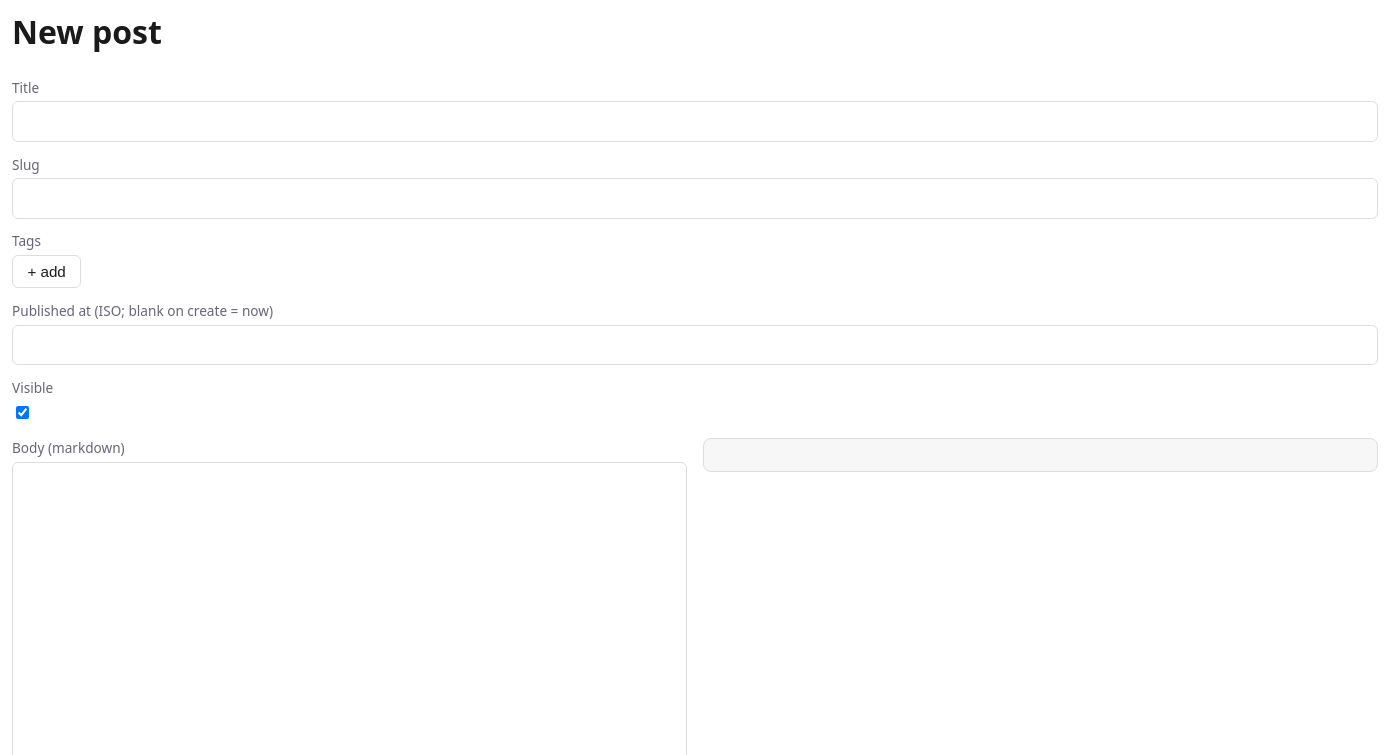
Test: post editor › surfaces a 409 duplicate slug on create
The image size is (1390, 755).
Type "T" into the field labelled "Title". click: (695, 122)
box: [12,102,1378,142]
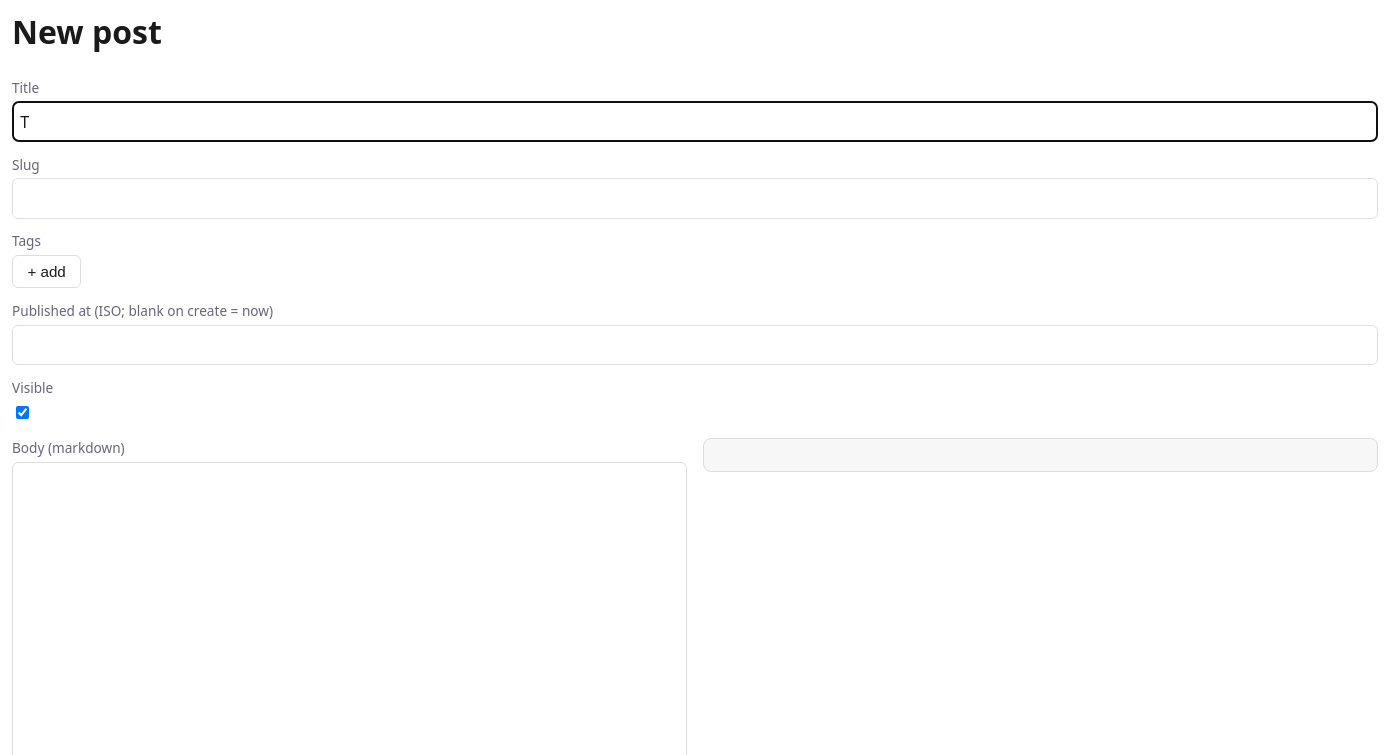
Type "dupe" into the field labelled "Slug". click: (695, 198)
box: [12,178,1378,219]
(page scrolled)
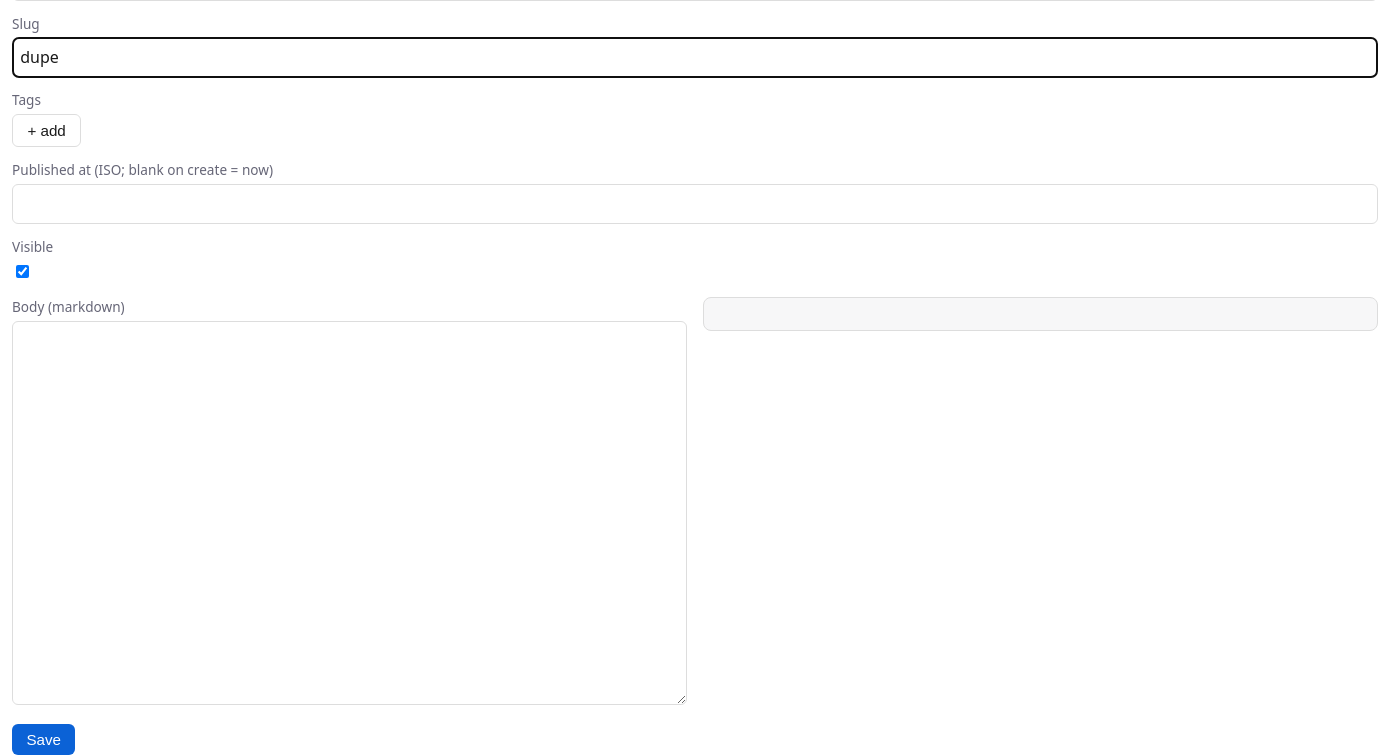
Type "b" into the text box labelled "Body (markdown)". click: (350, 513)
box: [12,321,687,705]
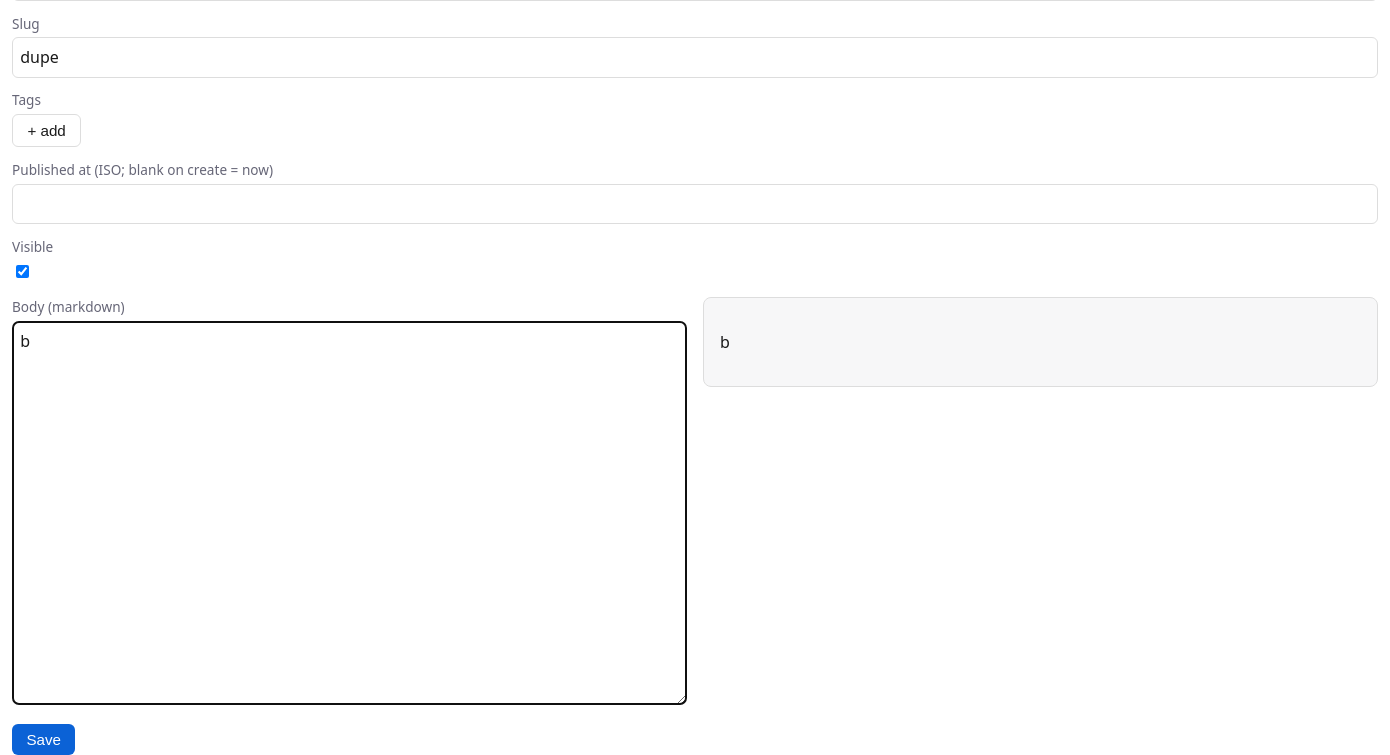
Click the button "Save". click: (44, 739)
box: [12,724,75,754]
(page scrolled)
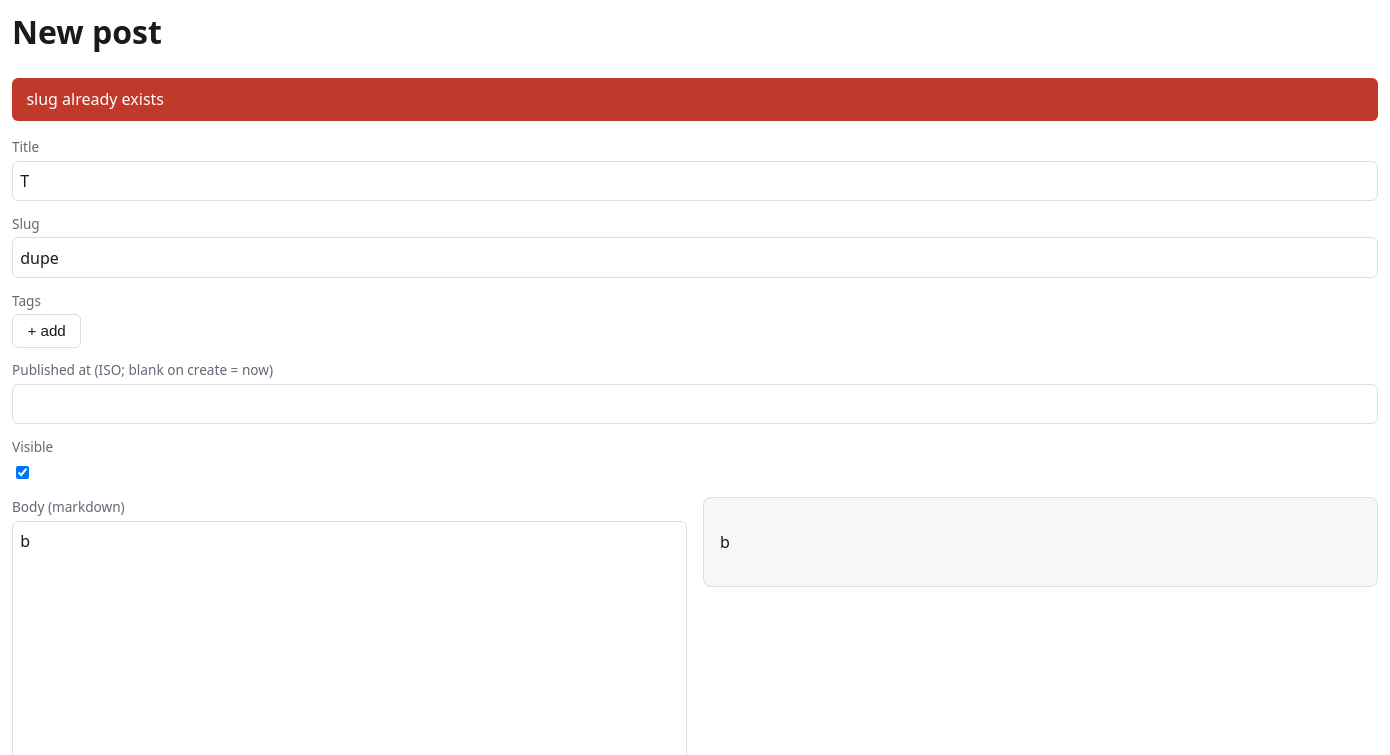
Check: the text "slug already exists" is shown, box [12,78,1378,121]
